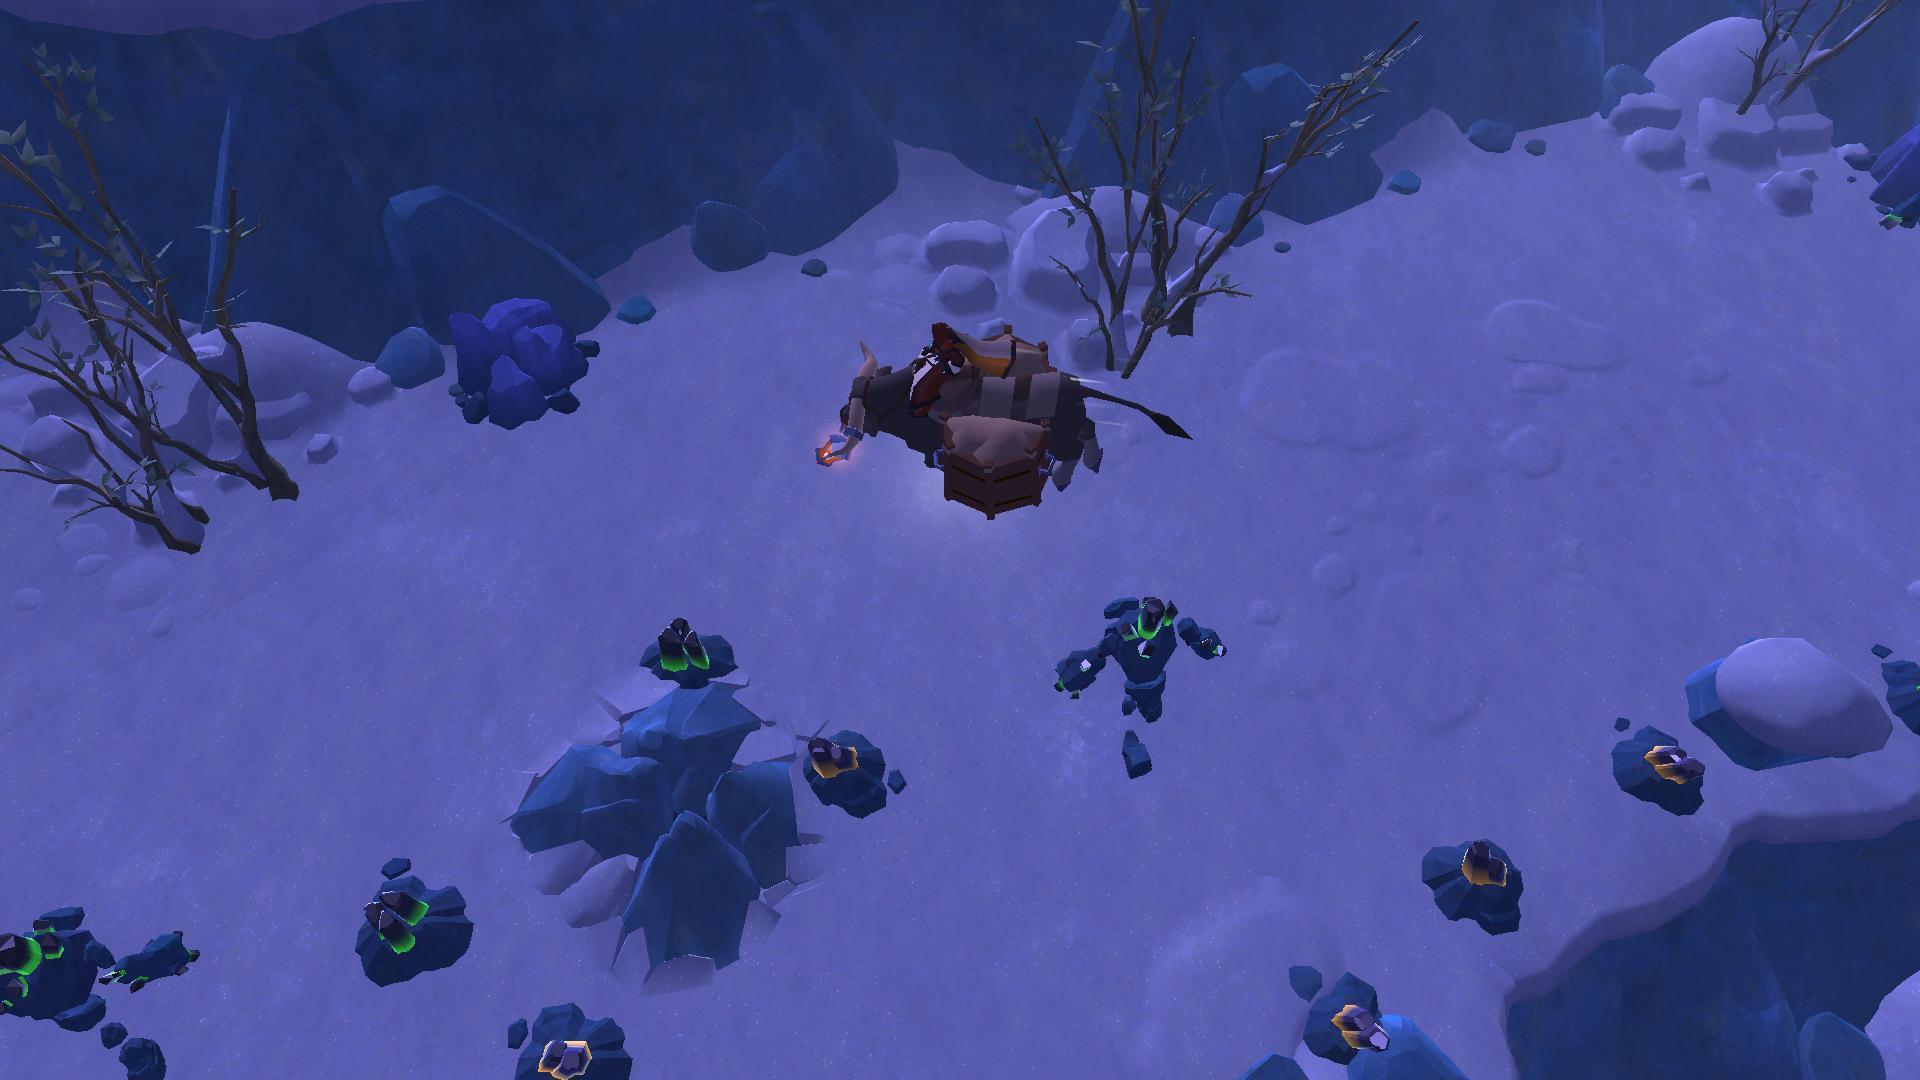ore_t3: (361, 886, 429, 959), (651, 613, 709, 682)
rock_t4: (443, 298, 597, 425)
